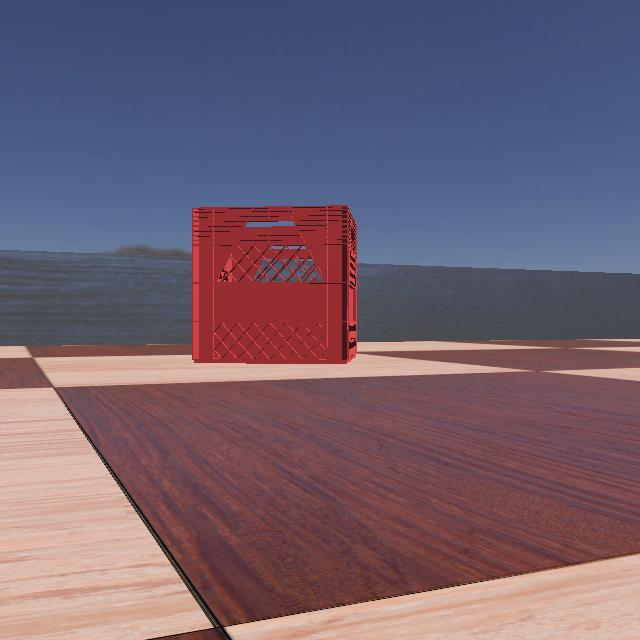plastic-crate: (188, 204, 364, 364)
